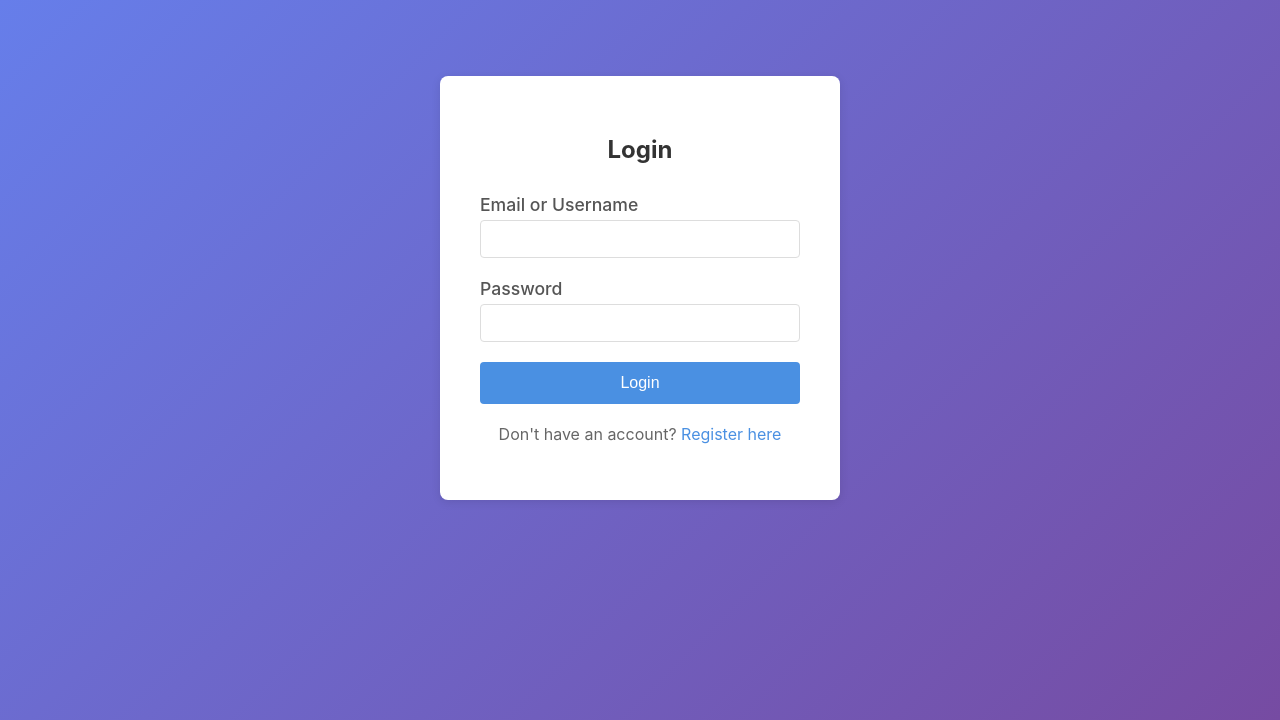
it: Login Component › Loading State › should disable submit button while loading
Type "testuser" into the field labelled "Email or Username". click: (640, 240)
box: x1=480 y1=220 x2=800 y2=258
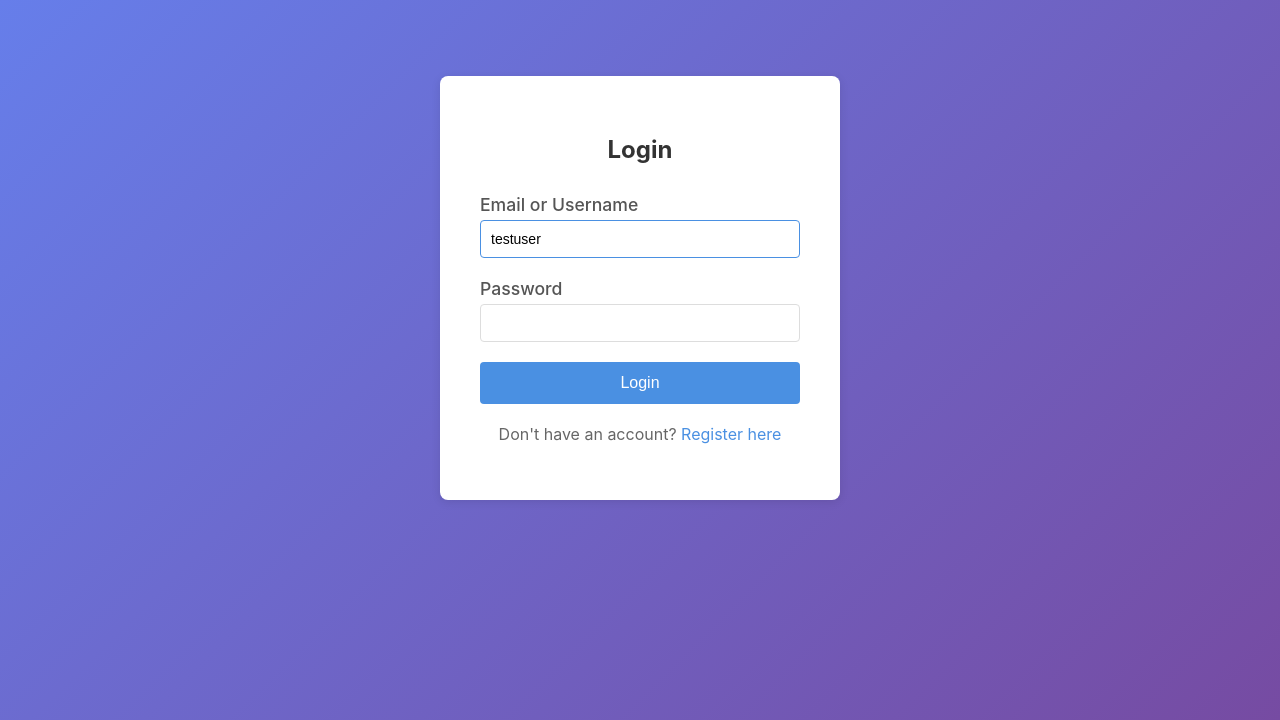
Type "password123" into the password field labelled "Password". click: (640, 324)
box: x1=480 y1=304 x2=800 y2=342
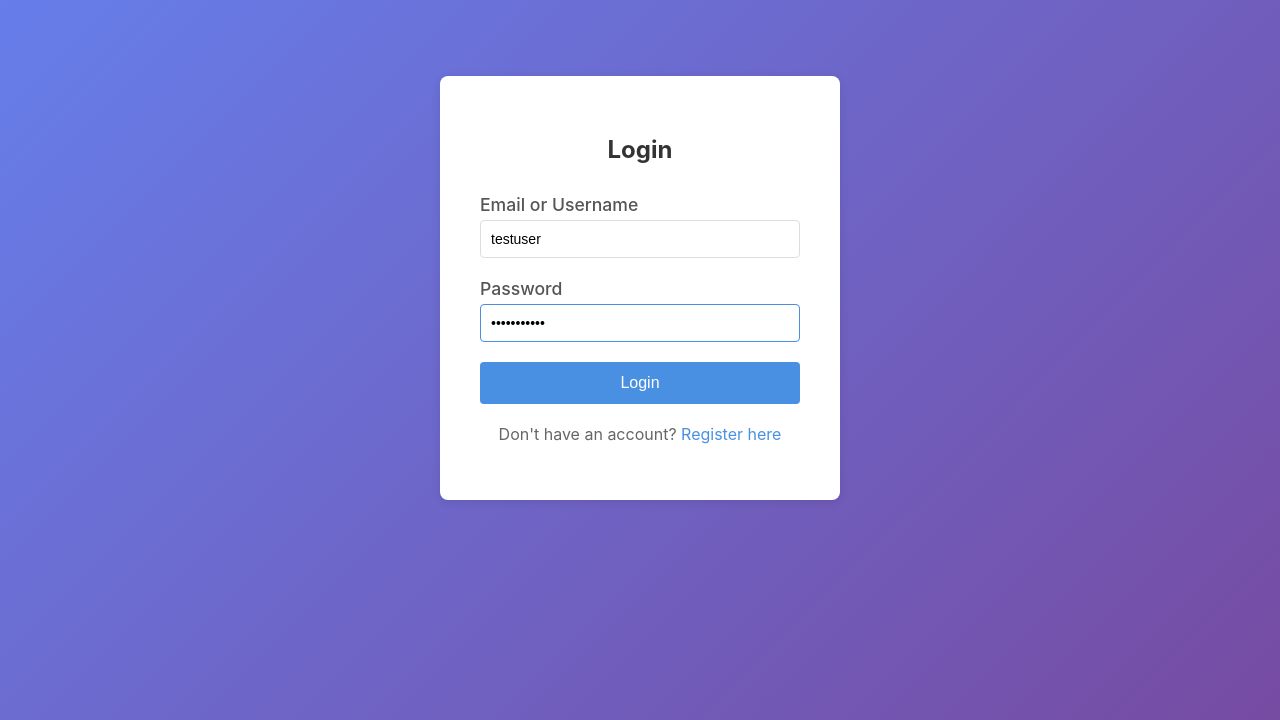
Click the button "Login". click: (640, 384)
box: x1=480 y1=362 x2=800 y2=404
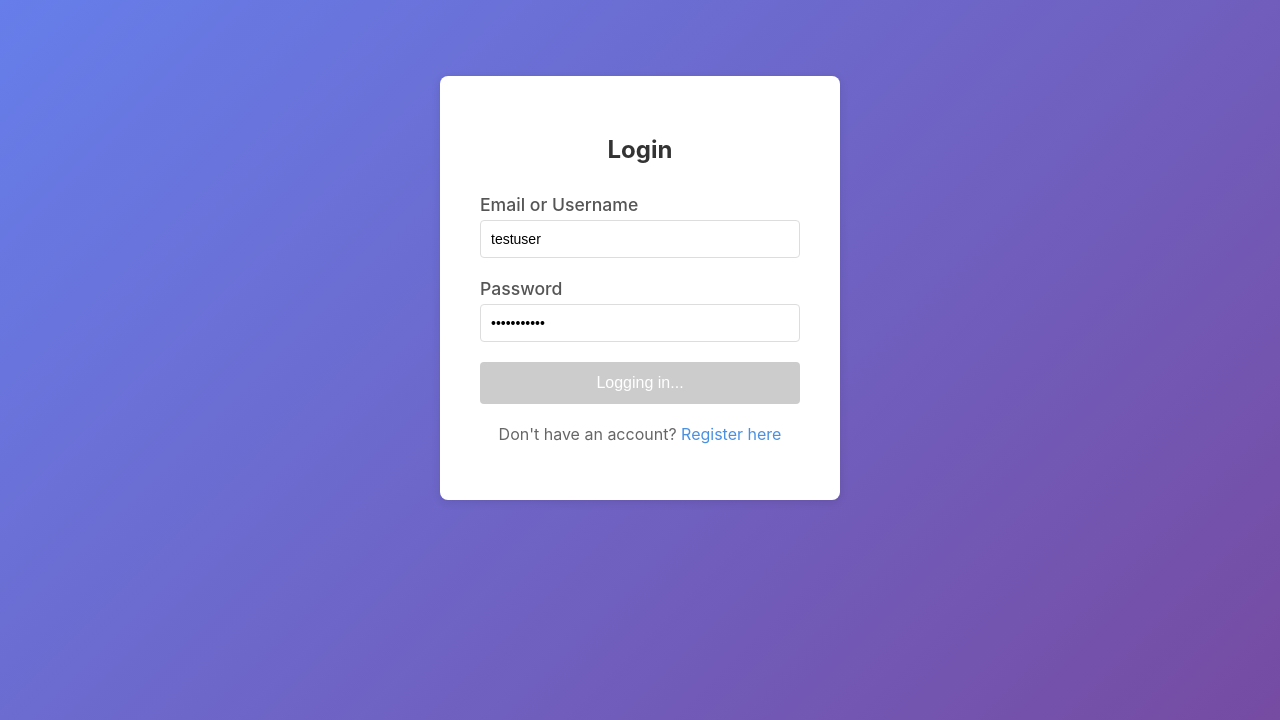
Expected: the button "Logging in..." is disabled, x1=480 y1=362 x2=800 y2=404
